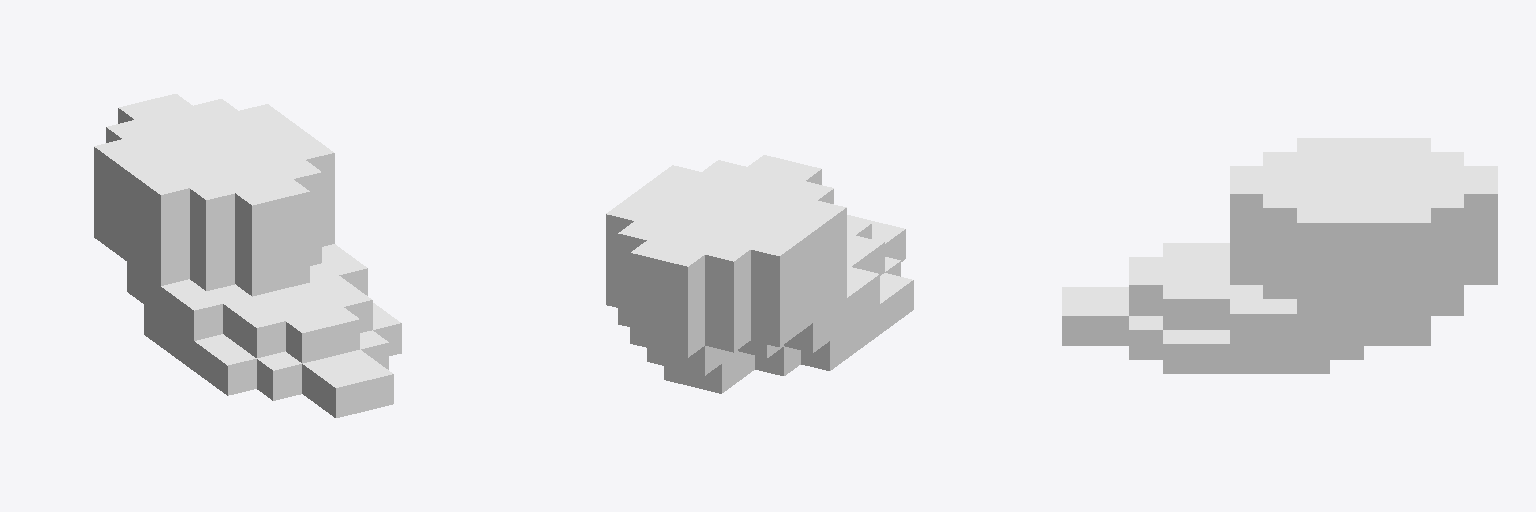
The model's file is penguin08_rightLeg.obj.
3 renders of one model, left to right at view 1: azimuth 30°, elevation 25°; view 2: azimuth 150°, elevation 25°; view 3: azimuth 270°, elevation 25°, orthographic.
Parts seen in each view (by area): view 1: object 1; view 2: object 1; view 3: object 1.
Part boxes in pixels (x1,y1,x2,y2): object 1: (94,94,401,417); object 1: (606,155,913,393); object 1: (1062,138,1497,373).
Size of the model in its own units: 0.6 by 0.5 by 1.3.